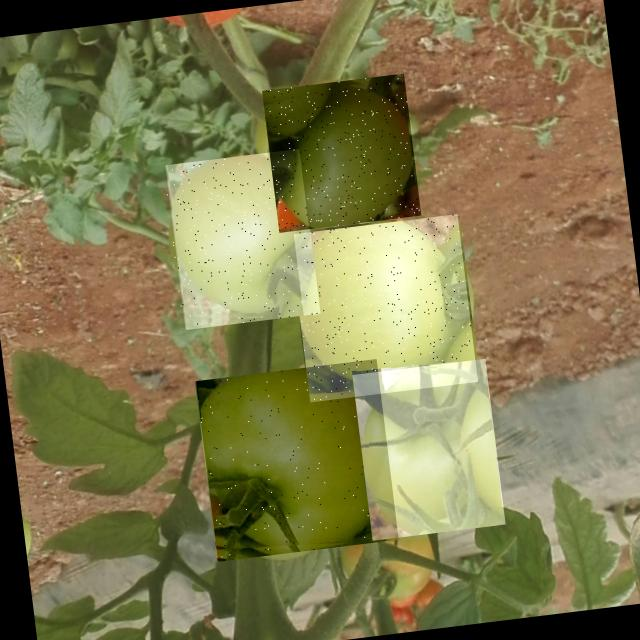Unripe Tomato: (195, 358, 398, 562), (290, 214, 478, 402), (162, 148, 320, 330), (352, 358, 505, 540), (262, 73, 421, 232)
